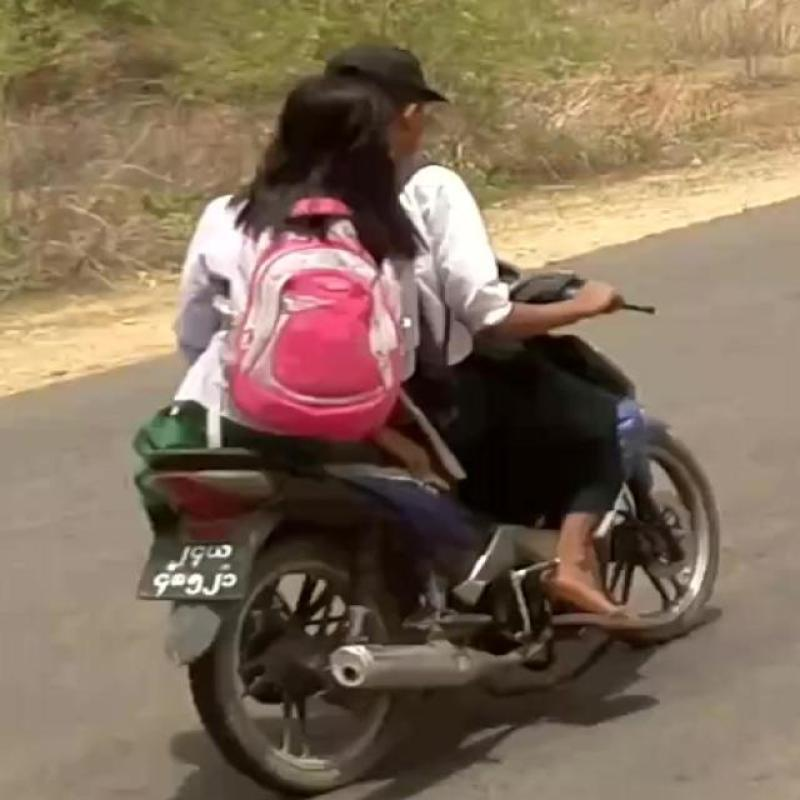nohelmet: (264, 55, 469, 275)
